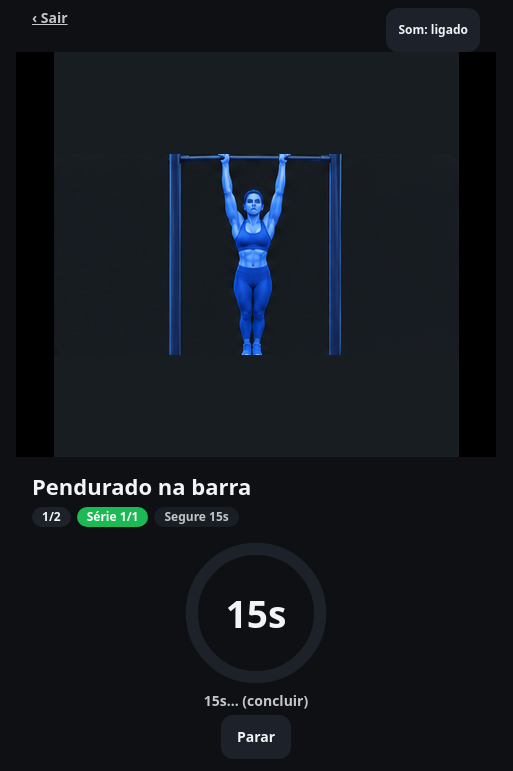
Test: RunScreen hold: toque no timer rodando conclui (não reinicia) › item não-último mantém o descanso de 10 s antes do auto-início
Check: the text "15s… (concluir)" is shown, box [204,690,308,710]
Click the button named "(concluir)".
click(256, 612)  # box [182,538,330,686]
Wait 11000 ms
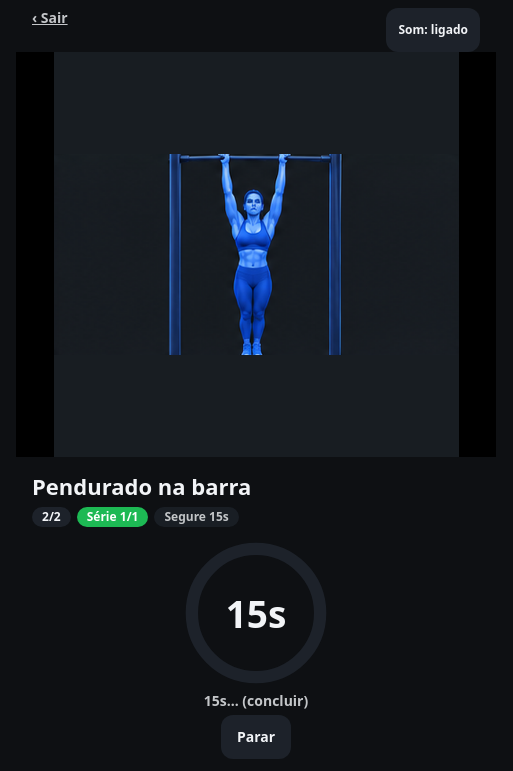
Check: the element with test id "rest-panel" is shown, box [182,538,330,758]
Click the button named "(concluir)".
click(256, 612)  # box [182,538,330,686]
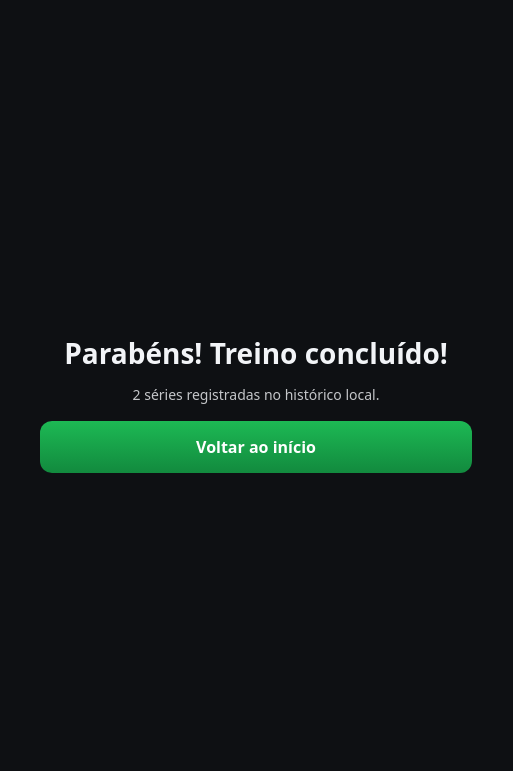
Check: the heading "Parabéns! Treino concluído!" is shown, box [64,337,448,369]
